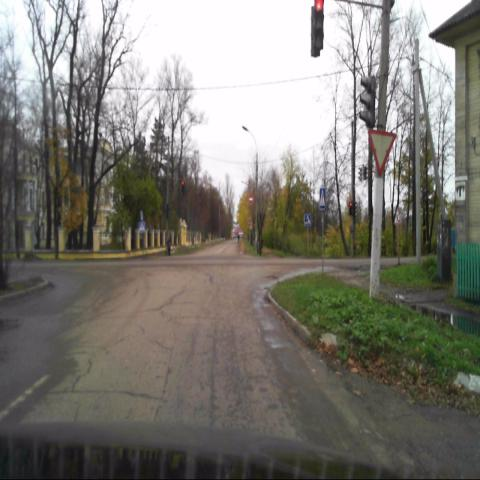2_4: (366, 129, 398, 178)
